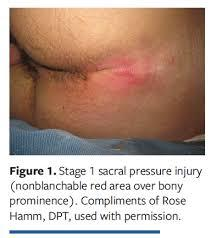Stage1: (41, 48, 170, 117)
